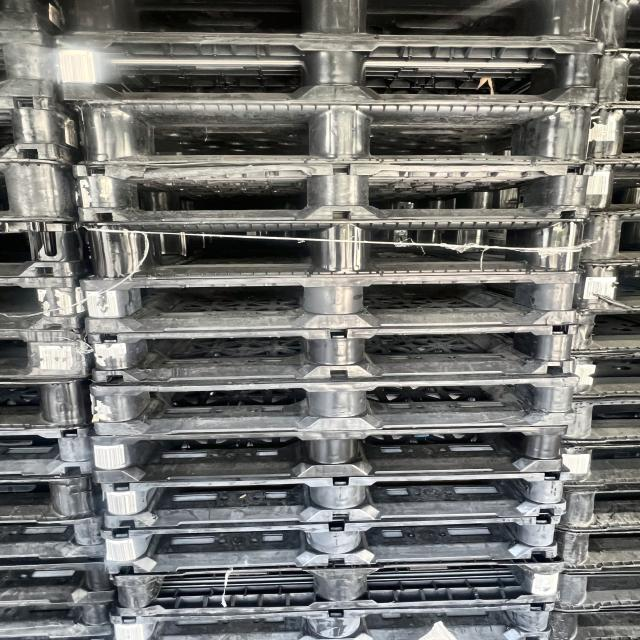igps: (67, 90, 600, 176), (50, 32, 611, 111), (76, 266, 590, 338), (80, 215, 594, 286), (69, 161, 600, 227), (85, 371, 582, 438), (83, 322, 582, 388), (85, 422, 570, 486), (98, 469, 577, 532), (54, 0, 610, 46), (543, 479, 640, 534), (551, 438, 640, 493), (544, 566, 640, 614), (548, 525, 640, 573), (558, 395, 640, 447), (566, 348, 640, 402), (582, 101, 640, 164), (574, 259, 640, 313), (580, 159, 640, 218), (578, 209, 640, 266), (569, 307, 640, 355), (545, 606, 640, 640), (589, 45, 640, 107), (590, 0, 640, 55)
